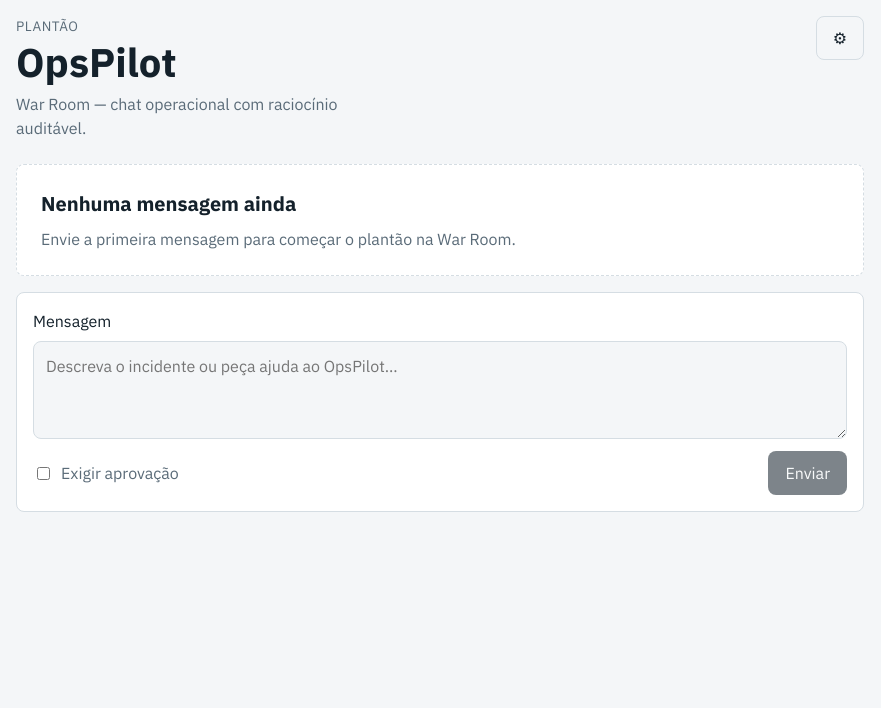
App › renders approval card on 202 and blocks composer
Click the checkbox labelled "Exigir aprovação".
click(44, 473)  # box [37, 467, 50, 480]
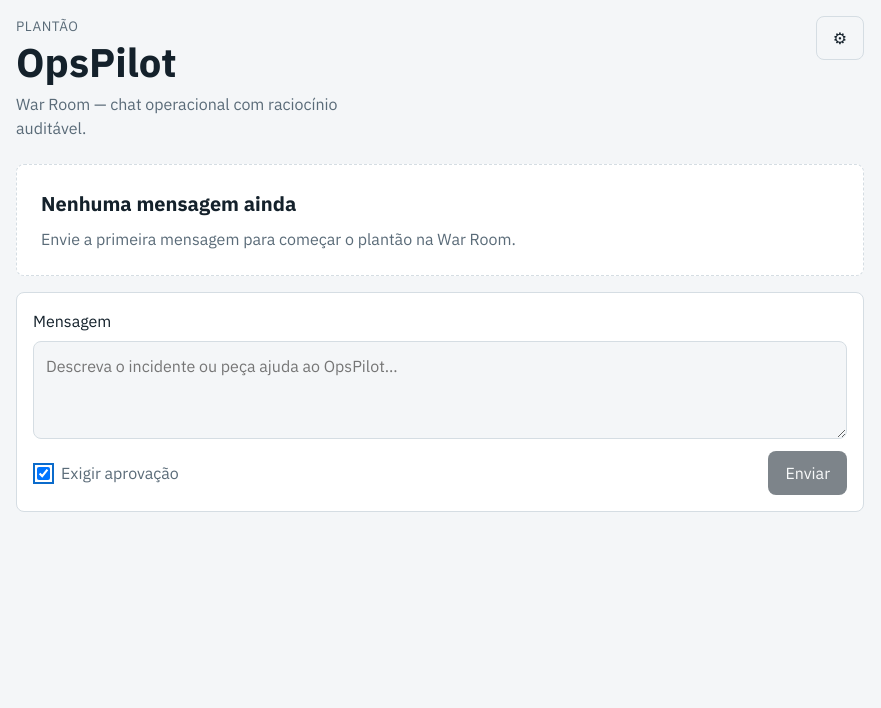
Type "abrir incidente crítico" into the text box labelled "Mensagem".
click(440, 390); type("abrir incidente crítico")  # box [33, 341, 847, 439]
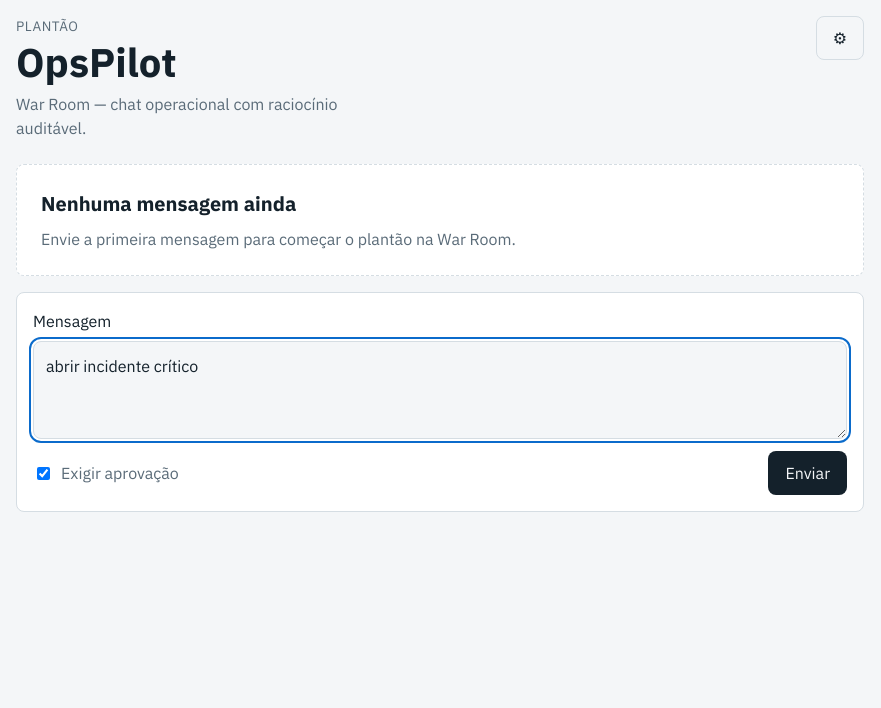
Click the button "Enviar".
click(808, 473)  # box [768, 451, 847, 495]
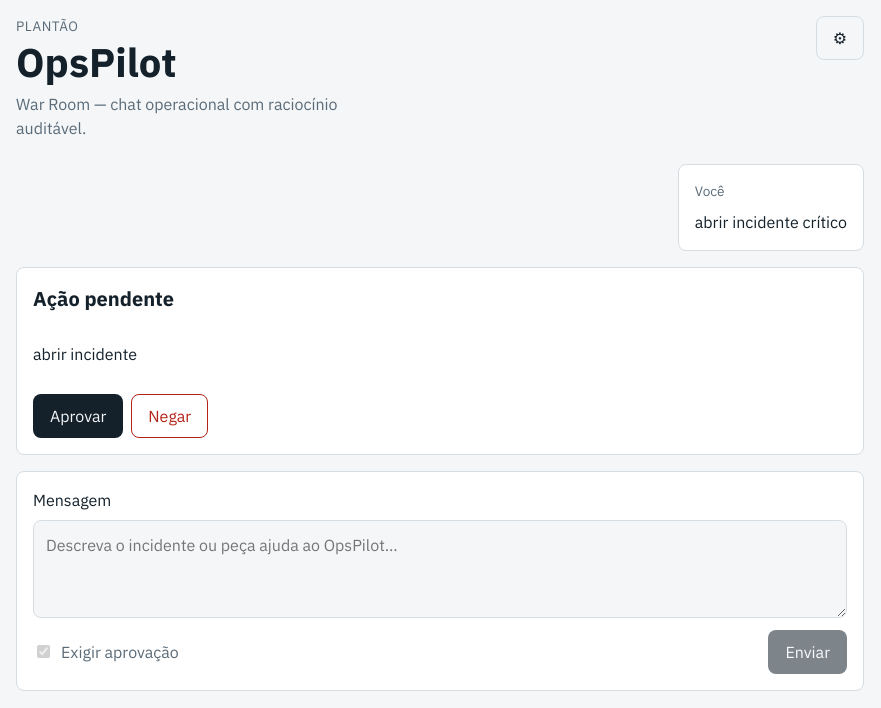
Expected: the heading "Ação pendente" is shown, [33, 285, 174, 312]
Expected: the text box labelled "Mensagem" is disabled, [33, 520, 847, 618]
